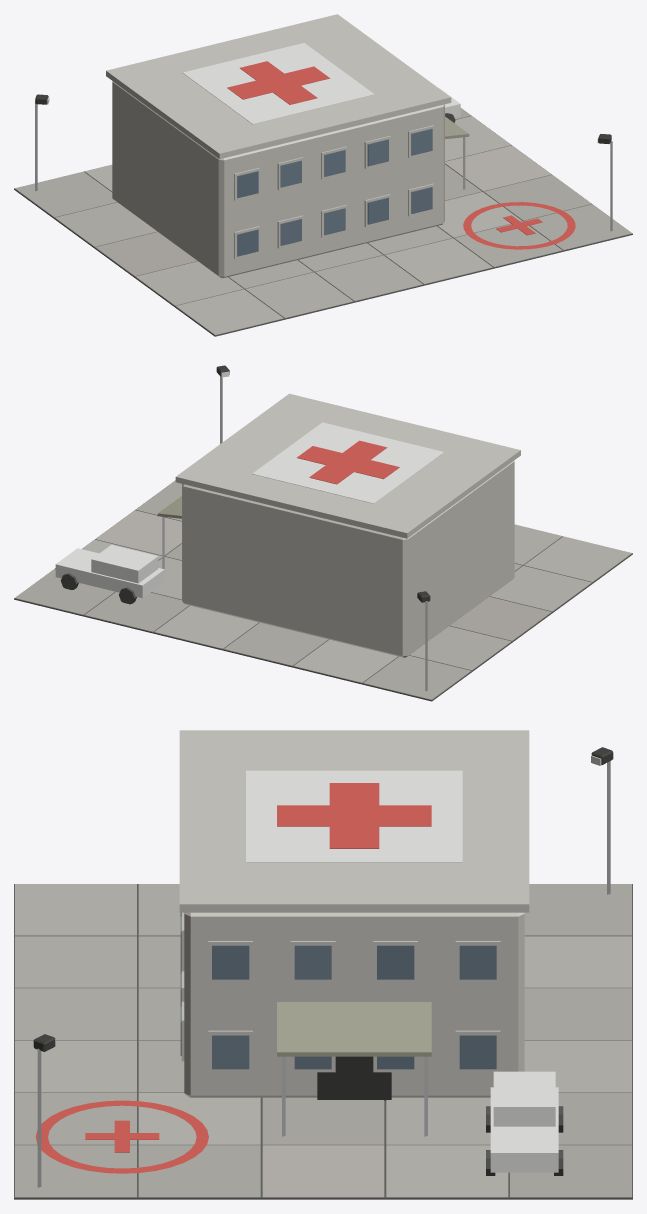
The model's file is b_hospital.glb.
3 renders of one model, top to bottom at view 1: azimuth 30°, elevation 25°; view 2: azimuth 150°, elevation 25°; view 3: azimuth 270°, elevation 25°, orthographic. The views are drawn at different scales.
Visible parts, largest first — view 1: hull; view 2: hull; view 3: hull.
Part boxes in pixels (box(x1,y1,x2,y2)): hull: box(14, 14, 632, 336); hull: box(14, 365, 632, 701); hull: box(14, 730, 632, 1199).
Size of the model in its own units: 24 by 7.16 by 20.
